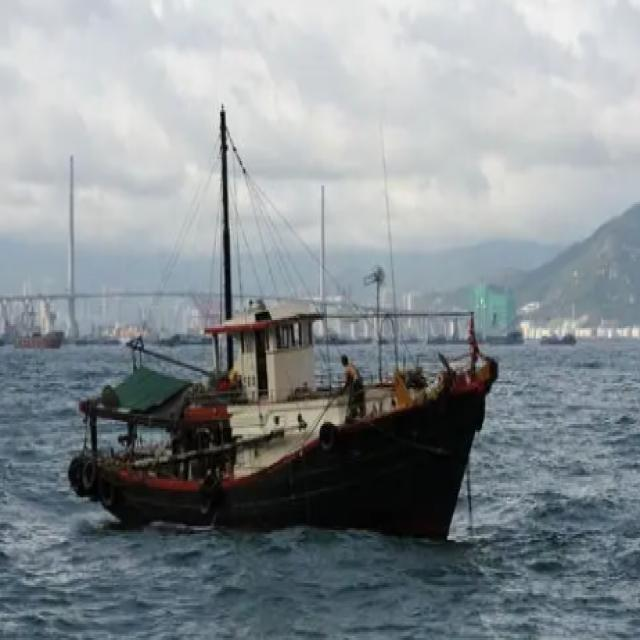fishing boat: (73, 172, 501, 537)
